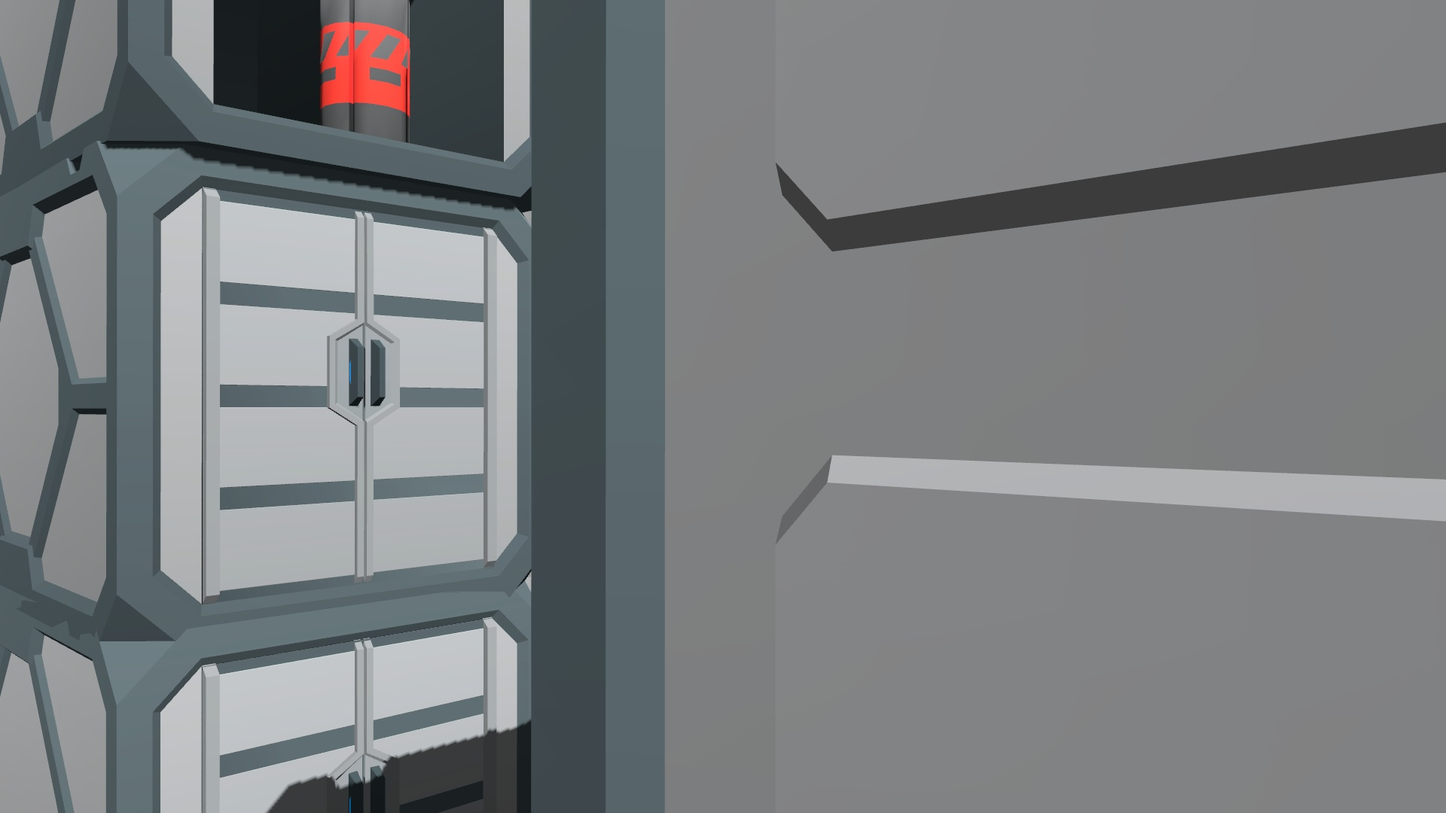red_barrel: (313, 1, 414, 150)
